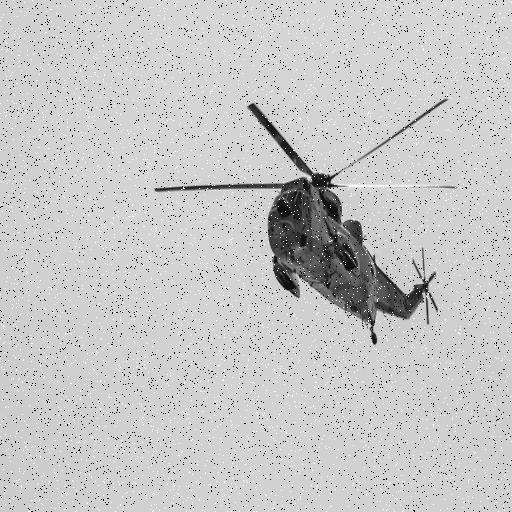helicopter: (155, 100, 474, 346)
